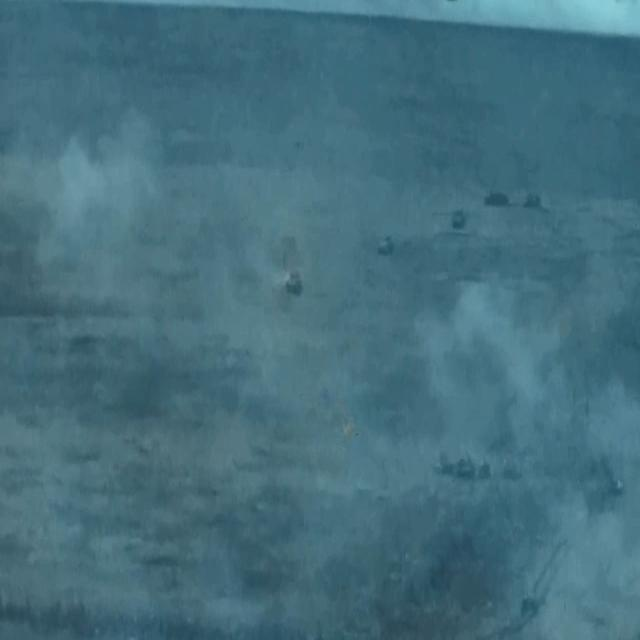AIFV: (287, 272, 304, 298), (379, 236, 396, 260), (452, 207, 466, 229)
APC: (504, 459, 522, 481), (438, 455, 455, 476), (480, 460, 492, 482)
Destroyed: (487, 192, 511, 207), (525, 194, 543, 211)
MBT: (456, 456, 477, 481)
